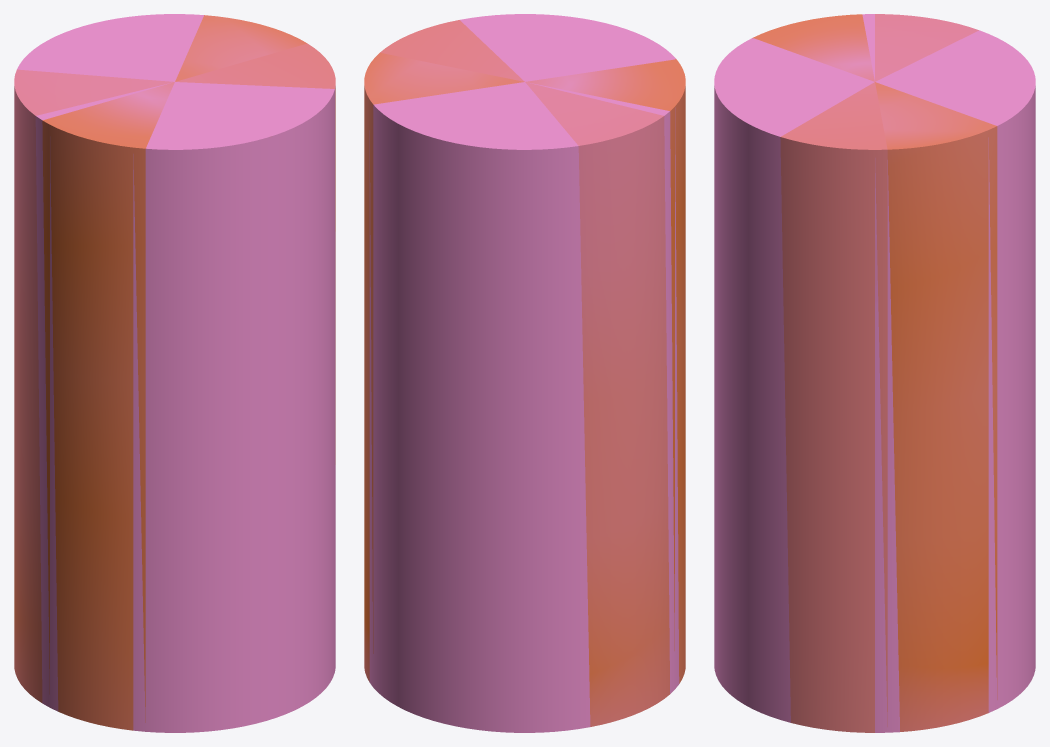
File: portal.fbx
3 views of the same model, side by side, from view 1: azimuth 30°, elevation 25°; view 2: azimuth 150°, elevation 25°; view 3: azimuth 270°, elevation 25° (orthographic).
Parts seen in each view (by area): view 1: node_id5; view 2: node_id5; view 3: node_id5.
Boxes of the visible parts, x1,y1,x2,y2 form: node_id5: (14,14,335,732); node_id5: (364,14,685,732); node_id5: (714,14,1035,732).
Size of the model in its own units: 0.256 by 0.512 by 0.256.
1 material, 1 textured.
